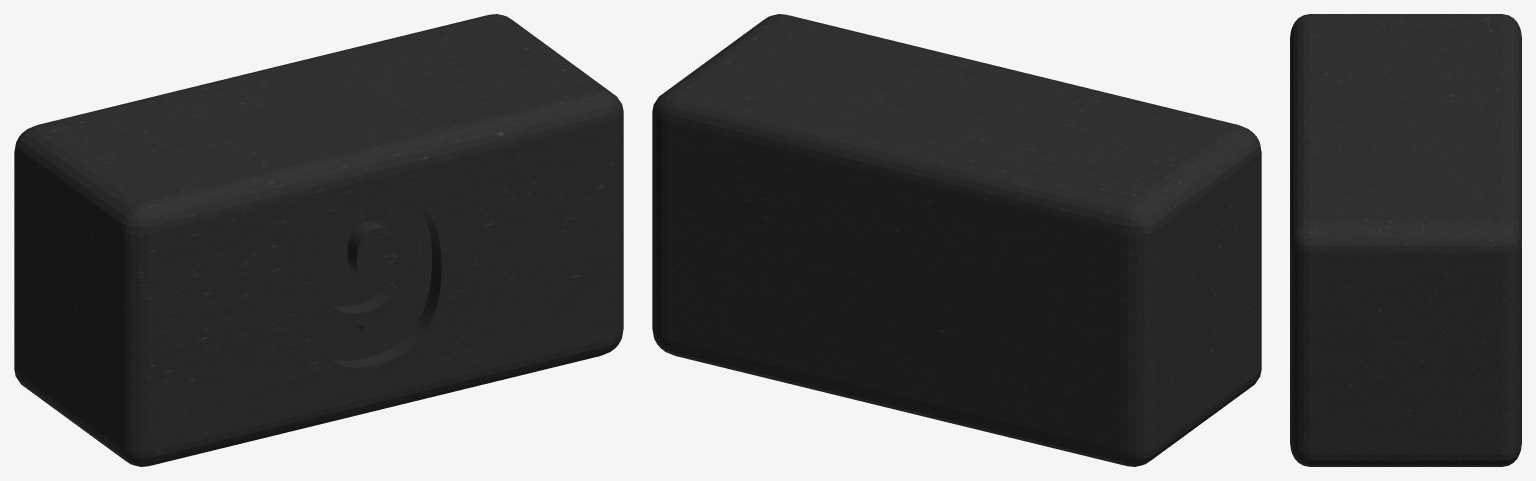
Rendered from btn_9.glb.
3 views of the same model, side by side, from view 1: azimuth 30°, elevation 25°; view 2: azimuth 150°, elevation 25°; view 3: azimuth 270°, elevation 25° (orthographic). The views are drawn at different scales.
Visible parts, largest first — view 1: Cube.009; view 2: Cube.009; view 3: Cube.009.
Part boxes in pixels (x1,y1,x2,y2): Cube.009: (14, 14, 623, 466); Cube.009: (652, 14, 1261, 466); Cube.009: (1290, 14, 1521, 466).
Bounding box in the file's own units: 3.42 × 1.71 × 1.48.
Materials: 2 (2 with a texture image).
